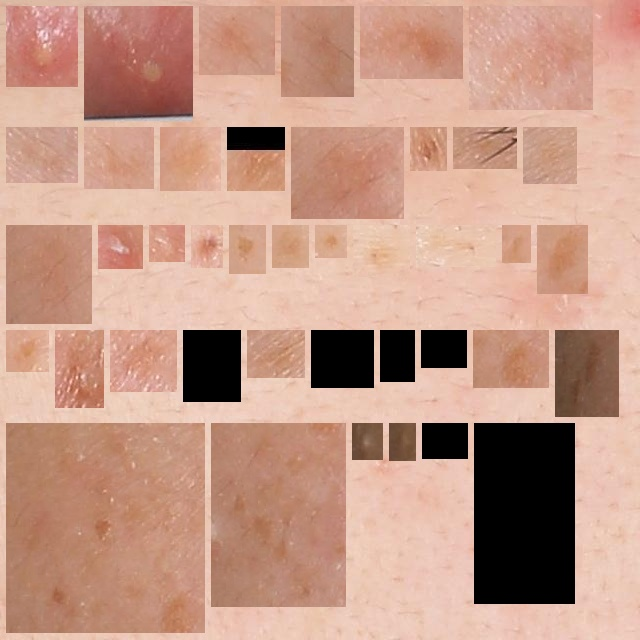melasma: (14, 431, 197, 625), (219, 431, 338, 599), (482, 431, 567, 596), (477, 14, 585, 102), (299, 135, 396, 211), (14, 233, 84, 316), (368, 14, 455, 71), (289, 14, 346, 89), (563, 338, 611, 409), (207, 14, 267, 67), (481, 338, 541, 380), (92, 135, 146, 181), (191, 338, 233, 394), (118, 338, 169, 384), (14, 135, 70, 175), (168, 135, 213, 183), (63, 338, 96, 400), (235, 135, 277, 183), (319, 338, 366, 380), (545, 233, 580, 286), (424, 233, 488, 259), (531, 135, 569, 176), (361, 233, 402, 269), (255, 338, 297, 370), (461, 135, 509, 161), (14, 338, 41, 364), (237, 233, 258, 266), (388, 338, 407, 374), (429, 338, 459, 360), (430, 431, 460, 451), (280, 233, 301, 260), (510, 233, 523, 255), (323, 233, 339, 250)
nevus: (418, 135, 439, 163), (199, 233, 215, 260)
pustule: (92, 14, 185, 113), (14, 14, 70, 79), (106, 233, 135, 261), (157, 233, 177, 254), (360, 431, 375, 452), (397, 431, 408, 453)
